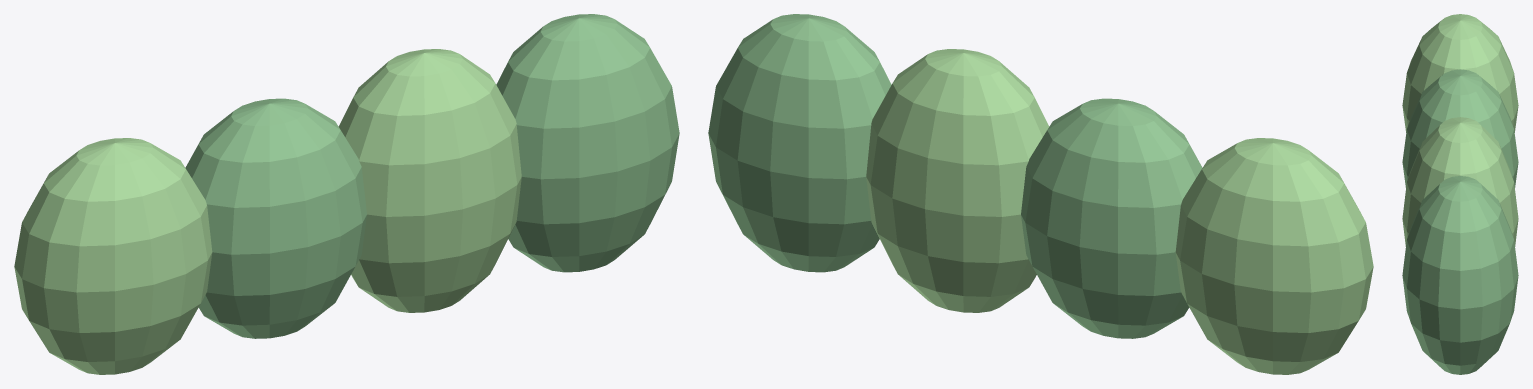
Rendered from Hedge.glb.
The picture shows the model from 3 angles, left to right: view 1: azimuth 30°, elevation 25°; view 2: azimuth 150°, elevation 25°; view 3: azimuth 270°, elevation 25°; orthographic projection. The views are drawn at different scales.
Visible parts, largest first — view 1: Hedge_1, Hedge_0; view 2: Hedge_1, Hedge_0; view 3: Hedge_0, Hedge_1.
Boxes of the visible parts, <box> form: Hedge_1: <box>14,49,521,374</box>; Hedge_0: <box>185,14,679,338</box>; Hedge_1: <box>866,49,1373,374</box>; Hedge_0: <box>708,14,1202,338</box>; Hedge_0: <box>1402,69,1518,374</box>; Hedge_1: <box>1402,14,1518,246</box>.
Bounding box in the file's own units: 12.6 × 4.74 × 2.6.
